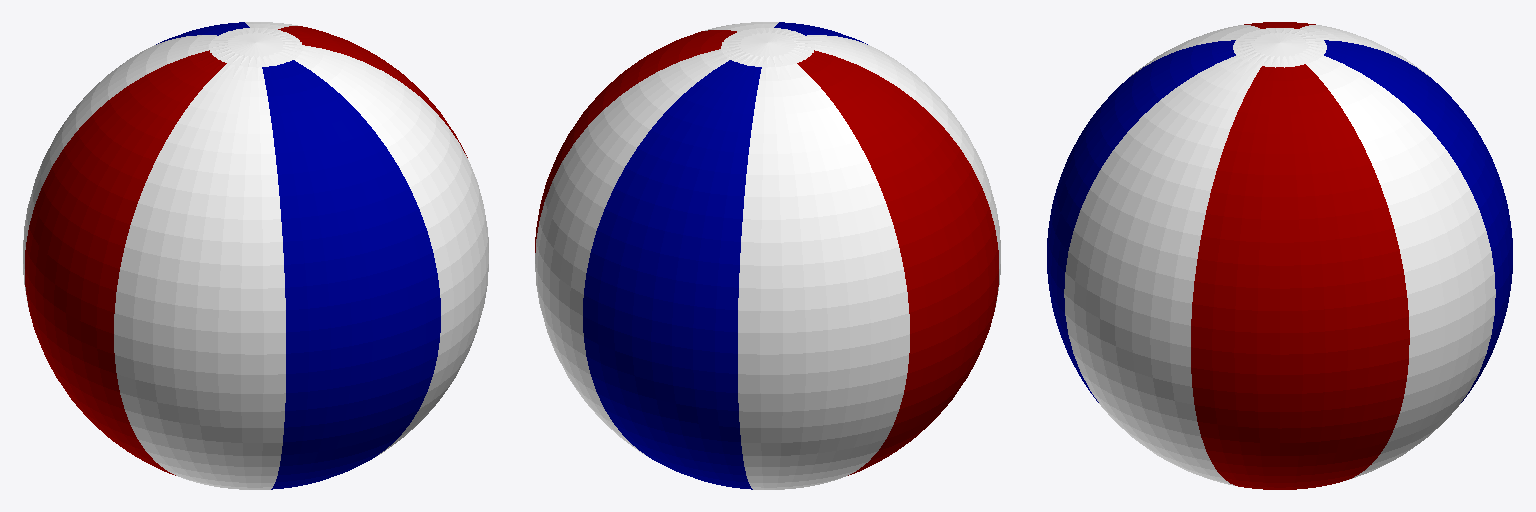
Rendered from beachball.obj.
3 renders of one model, left to right at view 1: azimuth 30°, elevation 25°; view 2: azimuth 150°, elevation 25°; view 3: azimuth 270°, elevation 25°, orthographic.
Visible parts, largest first — view 1: Sphere_Sphere.001; view 2: Sphere_Sphere.001; view 3: Sphere_Sphere.001.
Boxes of the visible parts, x1=… form: Sphere_Sphere.001: x1=23, y1=22, x2=488, y2=489; Sphere_Sphere.001: x1=535, y1=22, x2=1000, y2=489; Sphere_Sphere.001: x1=1047, y1=22, x2=1512, y2=489.
Bounding box in the file's own units: 1.98 × 2 × 1.98.